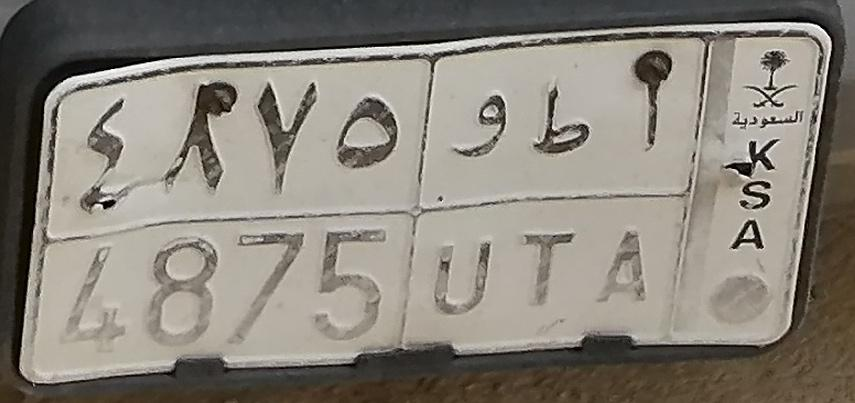4: (56, 95, 133, 358)
5: (311, 93, 405, 350)
7: (227, 75, 318, 349)
8: (141, 86, 223, 348)
A: (596, 84, 664, 303)
T: (521, 81, 590, 307)
U: (432, 89, 512, 316)
